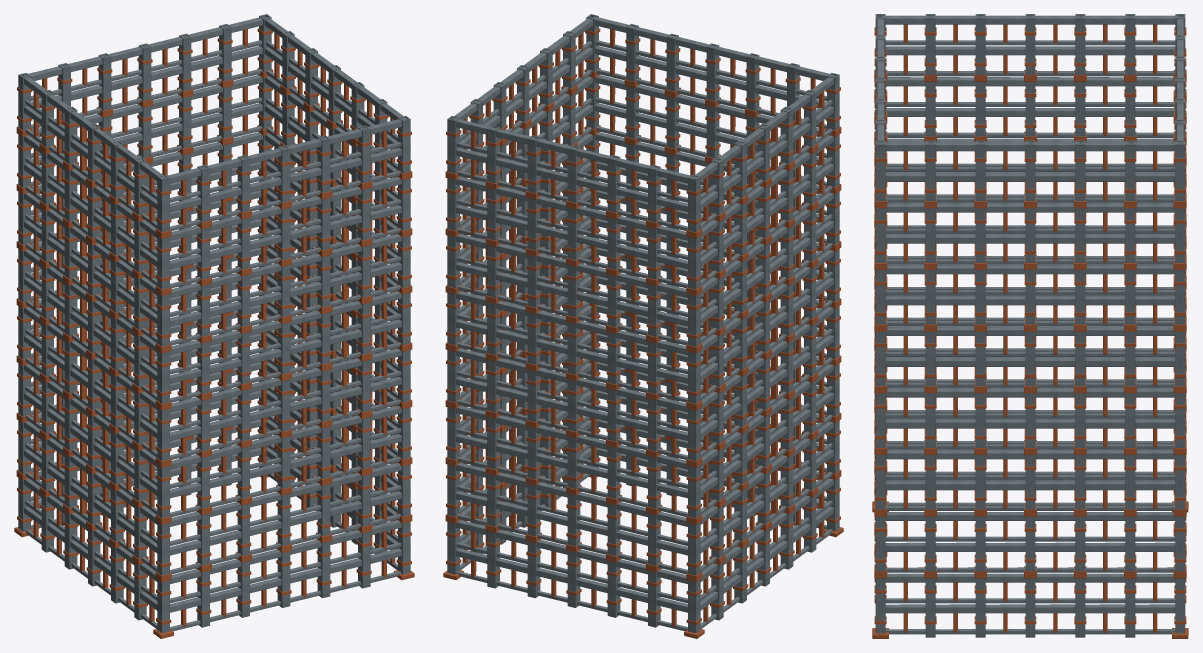
3 views of the same model, side by side, from view 1: azimuth 30°, elevation 25°; view 2: azimuth 150°, elevation 25°; view 3: azimuth 270°, elevation 25° (orthographic). The views are drawn at different scales.
Visible parts, largest first — view 1: Tier 7 side 0 post 0, Tier 7 side 0 post 4, Tier 7 side 2 post 4, Tier 7 side 0 post 3, Tier 7 side 2 post 3, Tier 0 side 0 post 3, Tier 0 side 0 post 4, Tier 0 side 0 post 0, Tier 5 side 0 post 0, Tier 1 side 0 post 0, Tier 4 side 0 post 0, Tier 6 side 0 post 0 (+17 smaller); view 2: Tier 7 side 3 post 0, Tier 7 side 2 post 4, Tier 7 side 2 post 2, Tier 7 side 0 post 2, Tier 7 side 2 post 3, Tier 7 side 0 post 3, Tier 0 side 2 post 2, Tier 0 side 2 post 4, Tier 0 side 2 post 3, Tier 0 side 3 post 0, Tier 5 side 3 post 0, Tier 1 side 3 post 0 (+23 smaller); view 3: Tier 7 side 1 post 1, Tier 7 side 1 post 5, Tier 7 side 1 post 2, Tier 7 side 1 post 4, Tier 7 side 1 post 0, Tier 7 side 2 post 0, Tier 7 side 1 post 3, Tier 7 side 3 post 1, Tier 7 side 3 post 5, Tier 7 side 3 post 2, Tier 7 side 3 post 4, Tier 7 side 3 post 3 (+54 smaller).
Part boxes in pixels (<box>): Tier 7 side 0 post 0: <box>157,174,169,232</box>; Tier 7 side 0 post 4: <box>317,135,330,193</box>; Tier 7 side 2 post 4: <box>98,53,111,110</box>; Tier 7 side 0 post 3: <box>277,145,290,202</box>; Tier 7 side 2 post 3: <box>138,43,151,101</box>; Tier 0 side 0 post 3: <box>277,551,290,607</box>; Tier 0 side 0 post 4: <box>317,541,330,598</box>; Tier 0 side 0 post 0: <box>157,579,169,633</box>; Tier 5 side 0 post 0: <box>157,293,169,346</box>; Tier 1 side 0 post 0: <box>157,522,169,575</box>; Tier 4 side 0 post 0: <box>157,351,169,403</box>; Tier 6 side 0 post 0: <box>157,236,169,289</box>; Tier 7 side 3 post 0: <box>688,174,700,232</box>; Tier 7 side 2 post 4: <box>607,155,620,212</box>; Tier 7 side 2 post 2: <box>527,135,540,192</box>; Tier 7 side 0 post 2: <box>746,53,759,110</box>; Tier 7 side 2 post 3: <box>567,145,580,202</box>; Tier 7 side 0 post 3: <box>706,43,719,101</box>; Tier 0 side 2 post 2: <box>527,541,540,598</box>; Tier 0 side 2 post 4: <box>607,561,620,617</box>; Tier 0 side 2 post 3: <box>567,551,580,607</box>; Tier 0 side 3 post 0: <box>688,579,700,633</box>; Tier 5 side 3 post 0: <box>688,293,700,346</box>; Tier 1 side 3 post 0: <box>688,522,700,575</box>; Tier 7 side 1 post 1: <box>925,140,935,201</box>; Tier 7 side 1 post 5: <box>1125,140,1135,201</box>; Tier 7 side 1 post 2: <box>975,140,985,201</box>; Tier 7 side 1 post 4: <box>1075,140,1085,201</box>; Tier 7 side 1 post 0: <box>875,140,885,201</box>; Tier 7 side 2 post 0: <box>1175,140,1185,201</box>; Tier 7 side 1 post 3: <box>1025,140,1035,201</box>; Tier 7 side 3 post 1: <box>1125,14,1135,74</box>; Tier 7 side 3 post 5: <box>925,14,935,74</box>; Tier 7 side 3 post 2: <box>1075,14,1085,74</box>; Tier 7 side 3 post 4: <box>975,14,985,74</box>; Tier 7 side 3 post 3: <box>1025,14,1035,74</box>.
Size of the model in its own units: 2.85 by 4.91 by 2.85.
2 materials, 2 textured.
